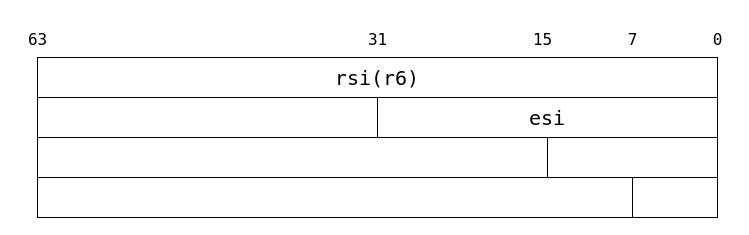
The diagram is 749 pixels wide and 235 high, and some of its shapes have lost their labels. Each missing label, with the centre of its shape:
si: point (632, 157)
sil: point (675, 197)
